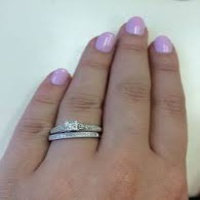ring: (59, 29, 120, 165)
